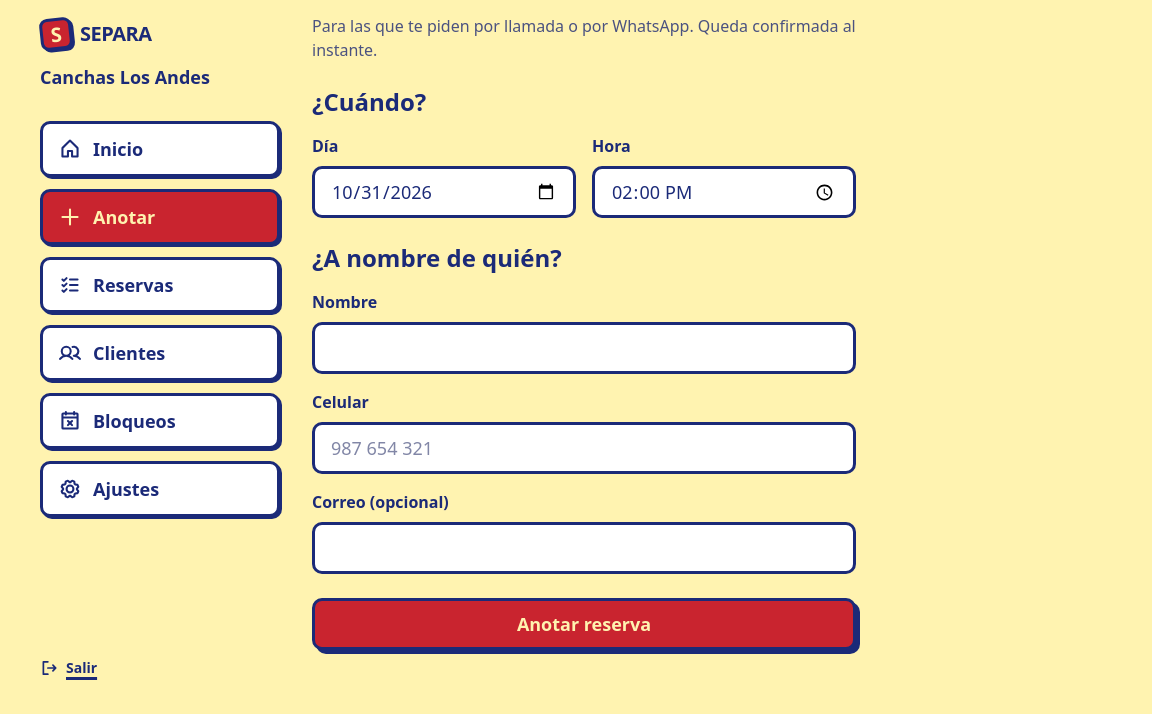
writing down a booking › asks for the name and the phone before sending
(page scrolled)
Check: the date field labelled "Día" is shown, box 312,166 -> 576,218
Click the button "Anotar reserva".
click(584, 624)  # box 312,598 -> 856,650
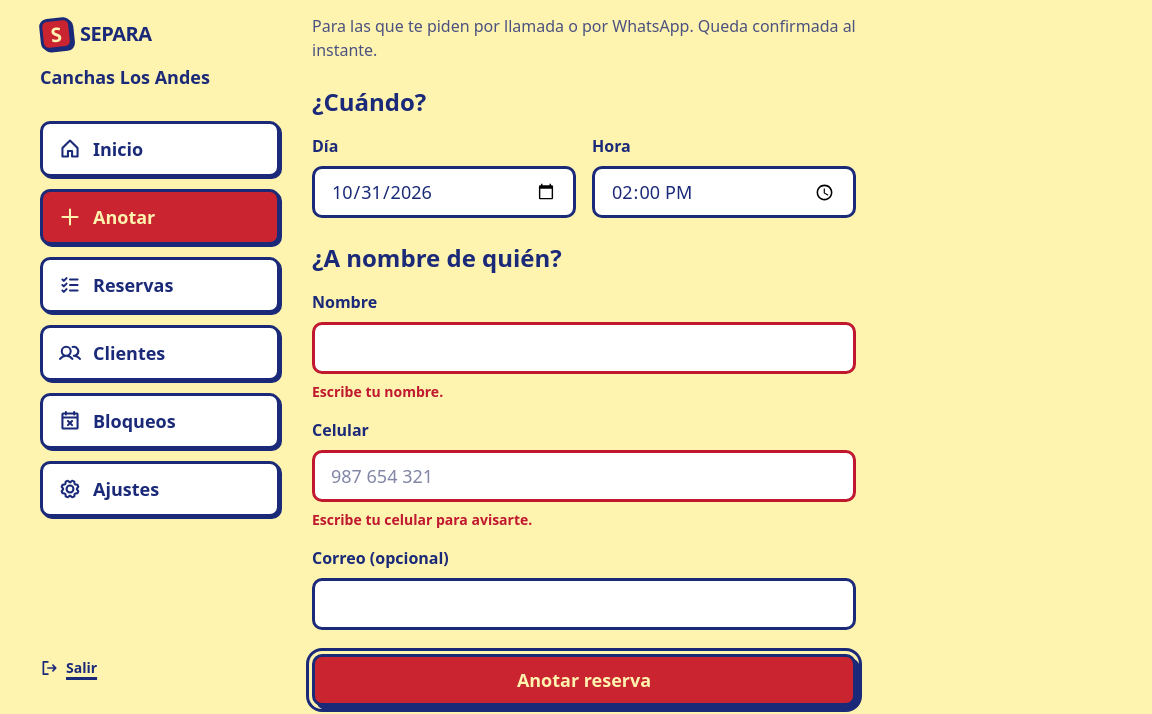
Check: the text "Escribe tu nombre." is shown, box 312,382 -> 443,401
Check: the text "Escribe tu celular para avisarte." is shown, box 312,510 -> 532,529
